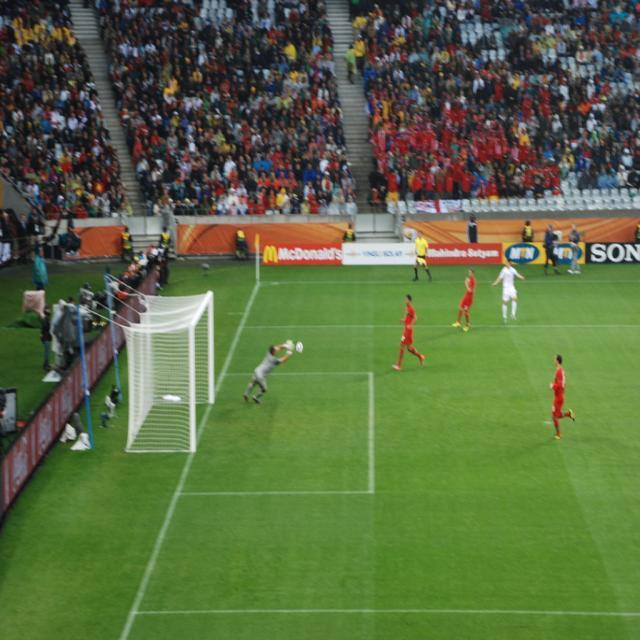football: (290, 335, 325, 360)
